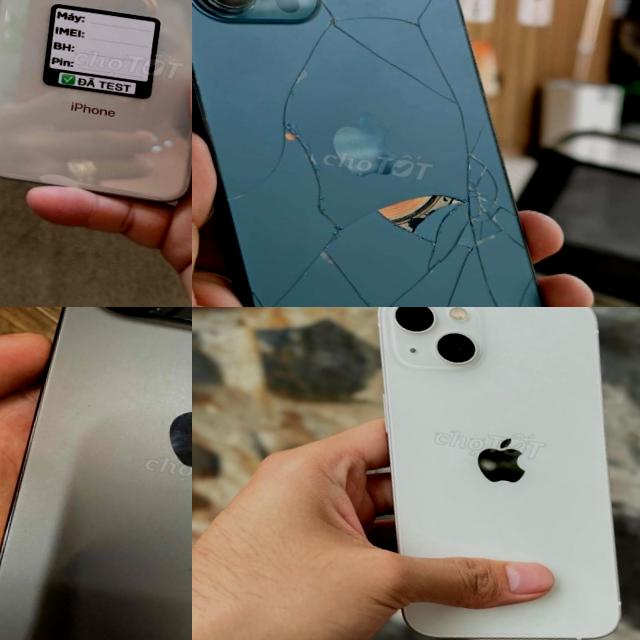gen_12_13: (192, 0, 640, 307), (329, 307, 640, 640)
gen_15: (0, 307, 192, 640)
gen_x_xs: (0, 0, 192, 222)
physical_damage: (204, 0, 622, 307)
scratch: (164, 403, 192, 476), (178, 314, 192, 325), (184, 563, 192, 574)
